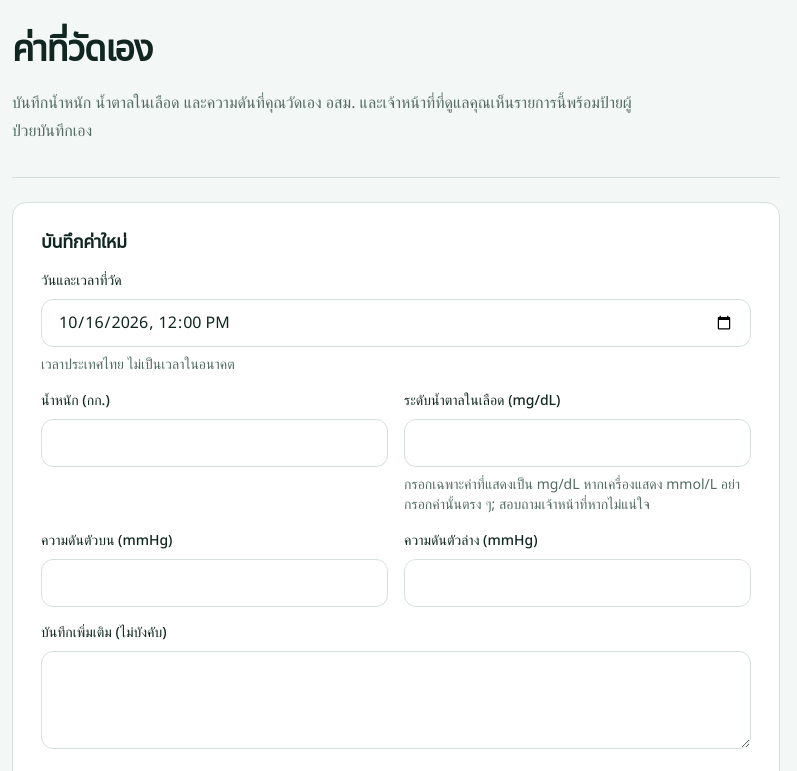
Scenario: PatientSelfMeasurementWorkspace unknown outcome recovery › resends the committed request with its original nonce after the response is lost
Type "110" into the number field named "bloodSugar" at (578, 443), box top-left (404, 419), bottom-right (751, 467)
(page scrolled)
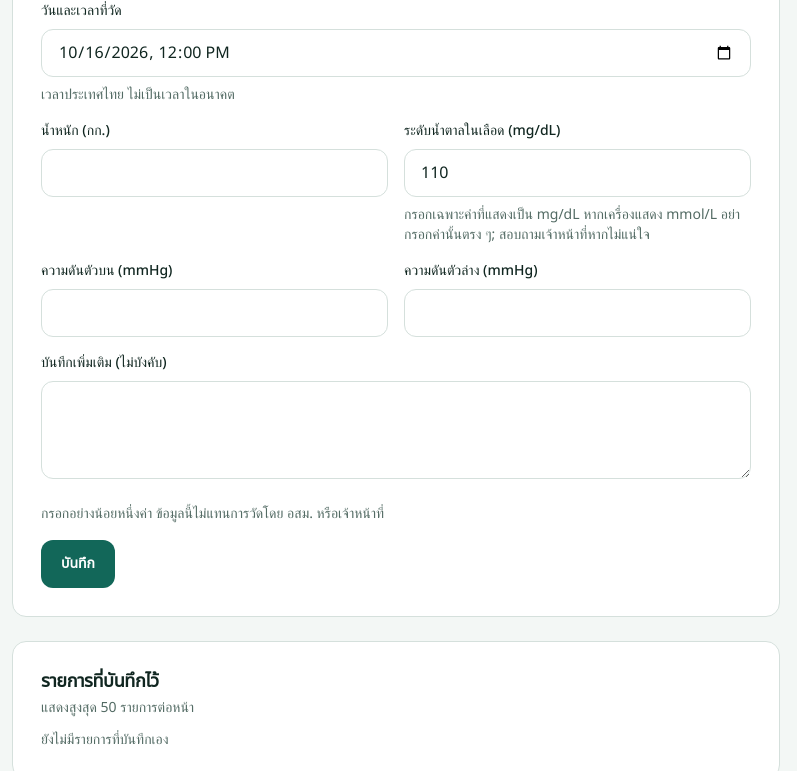
Click the submit button at (78, 564), box top-left (41, 540), bottom-right (115, 588)
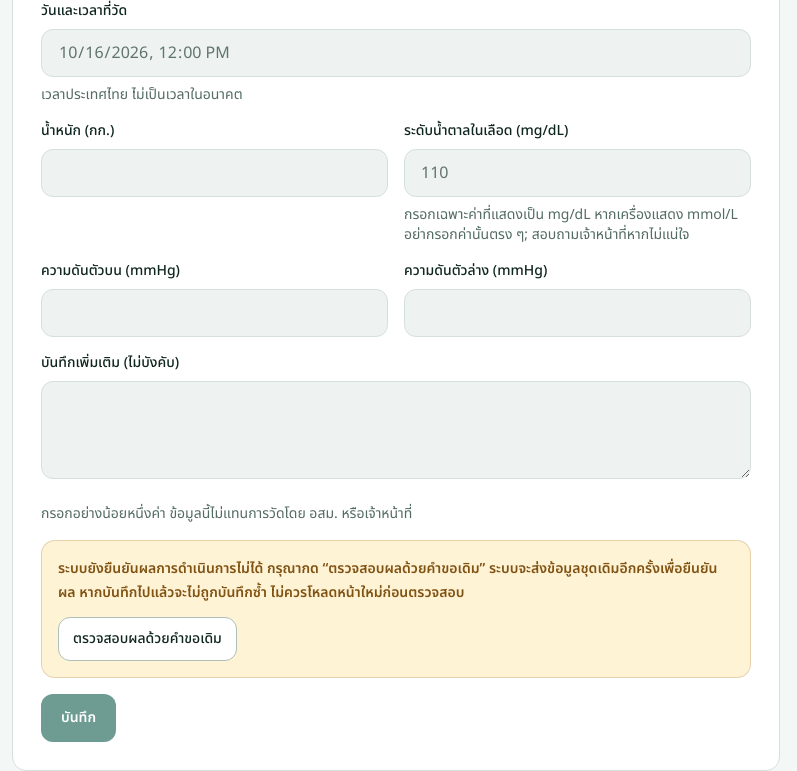
Now the message shows "ตรวจสอบผลด้วยคำขอเดิม"
Click the button "ตรวจสอบผลด้วยคำขอเดิม" at (147, 639), box top-left (58, 617), bottom-right (237, 661)
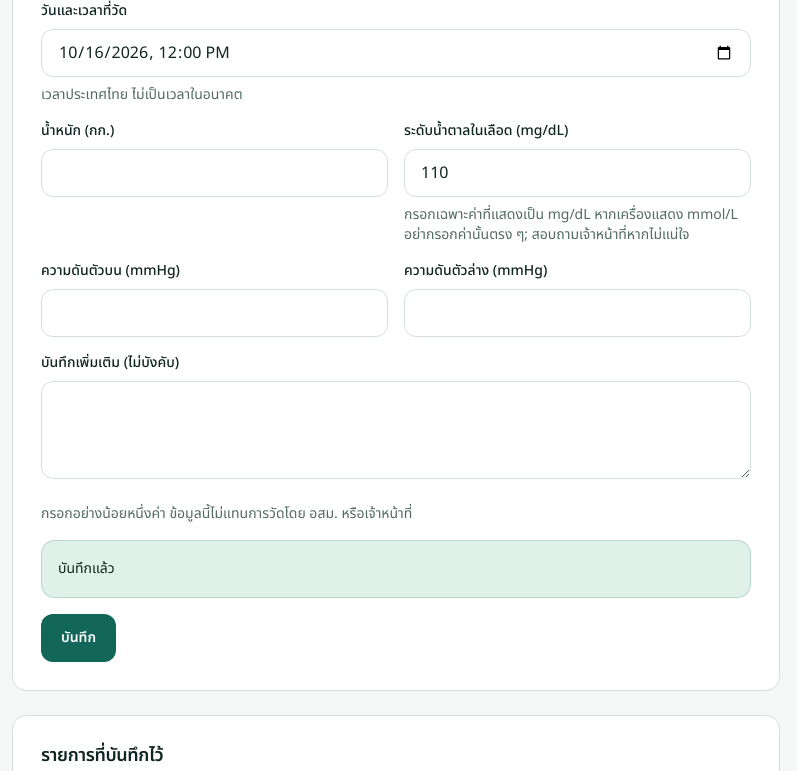
Now the message "บันทึกแล้ว" is shown, box top-left (41, 540), bottom-right (751, 598)
Now the message is gone
